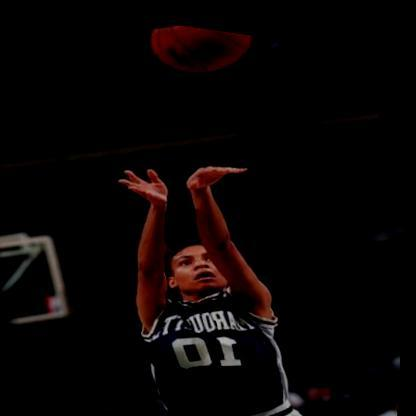basketball: (144, 16, 260, 88)
